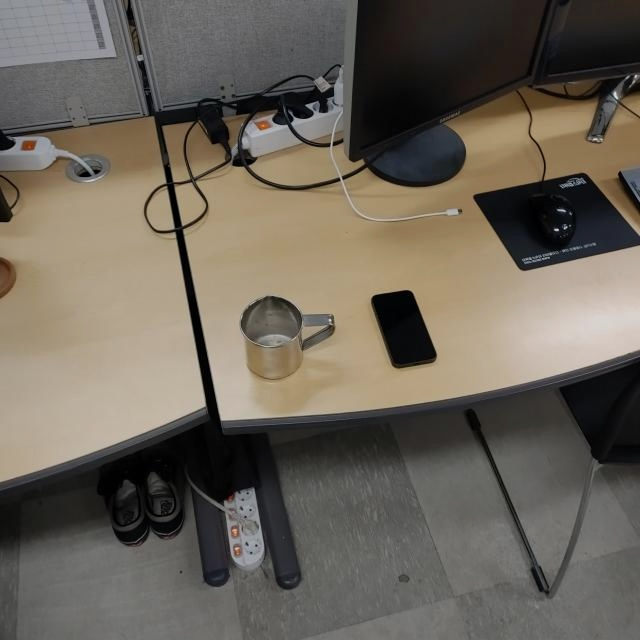cup: (239, 295, 337, 381)
phone: (369, 286, 439, 368)
